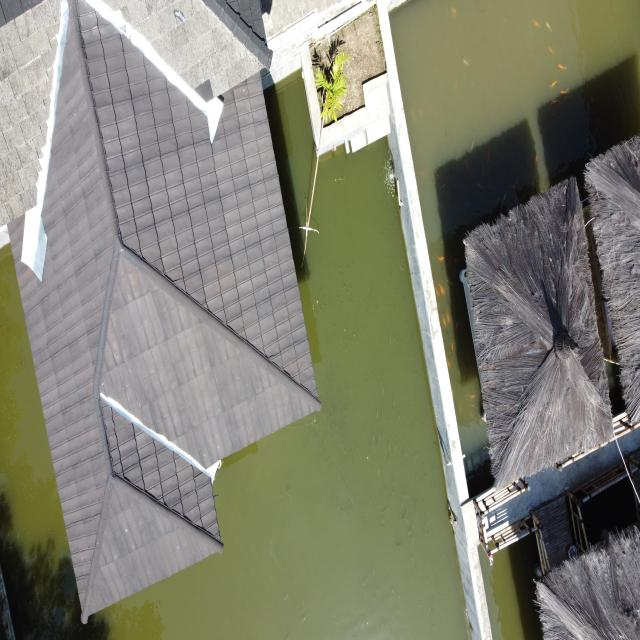Ponds: (1, 56, 493, 640)
